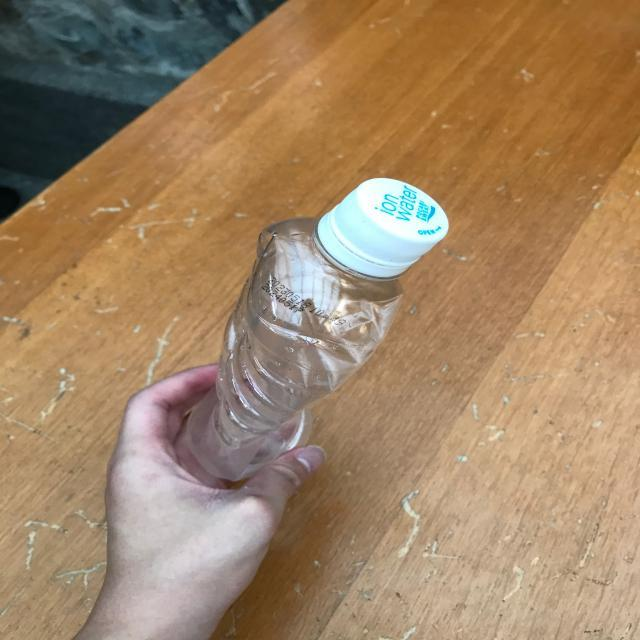plastic_bottle: (186, 178, 449, 482)
